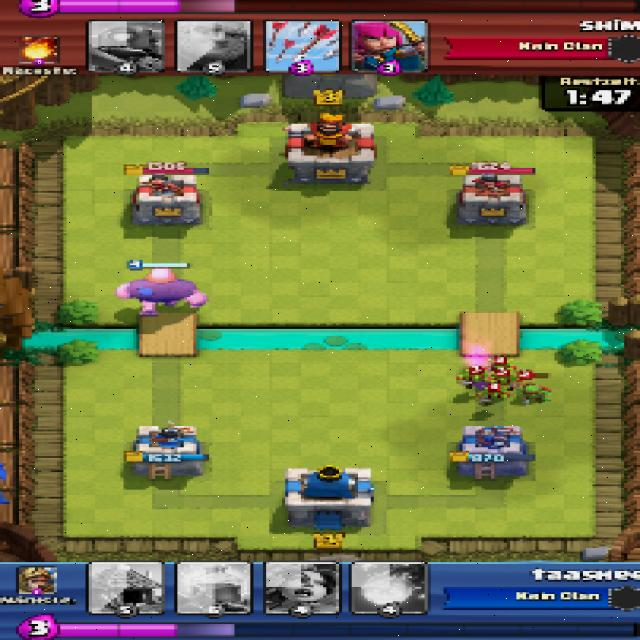Enemy-Goblin: (477, 385, 510, 404), (456, 368, 489, 385), (488, 360, 516, 378), (489, 373, 513, 388)
Enemy-SpearGoblin: (521, 383, 553, 404)
Player-Giant: (116, 269, 208, 316)
